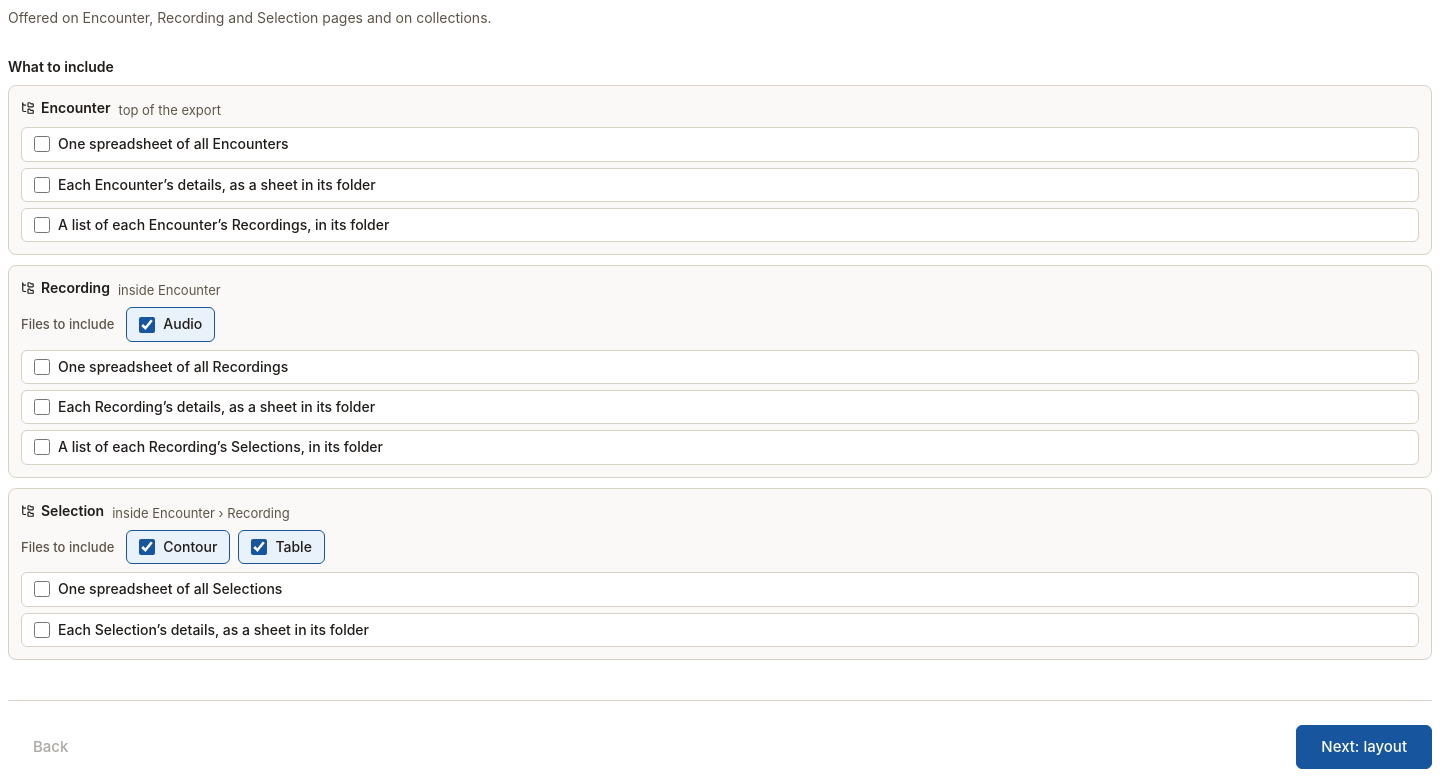
Test: choosing a layout › shows each one as the folders it makes, in neutral names
(page scrolled)
Click the button "Next: layout".
click(1364, 747)  # box [1296,725,1432,769]
(page scrolled)
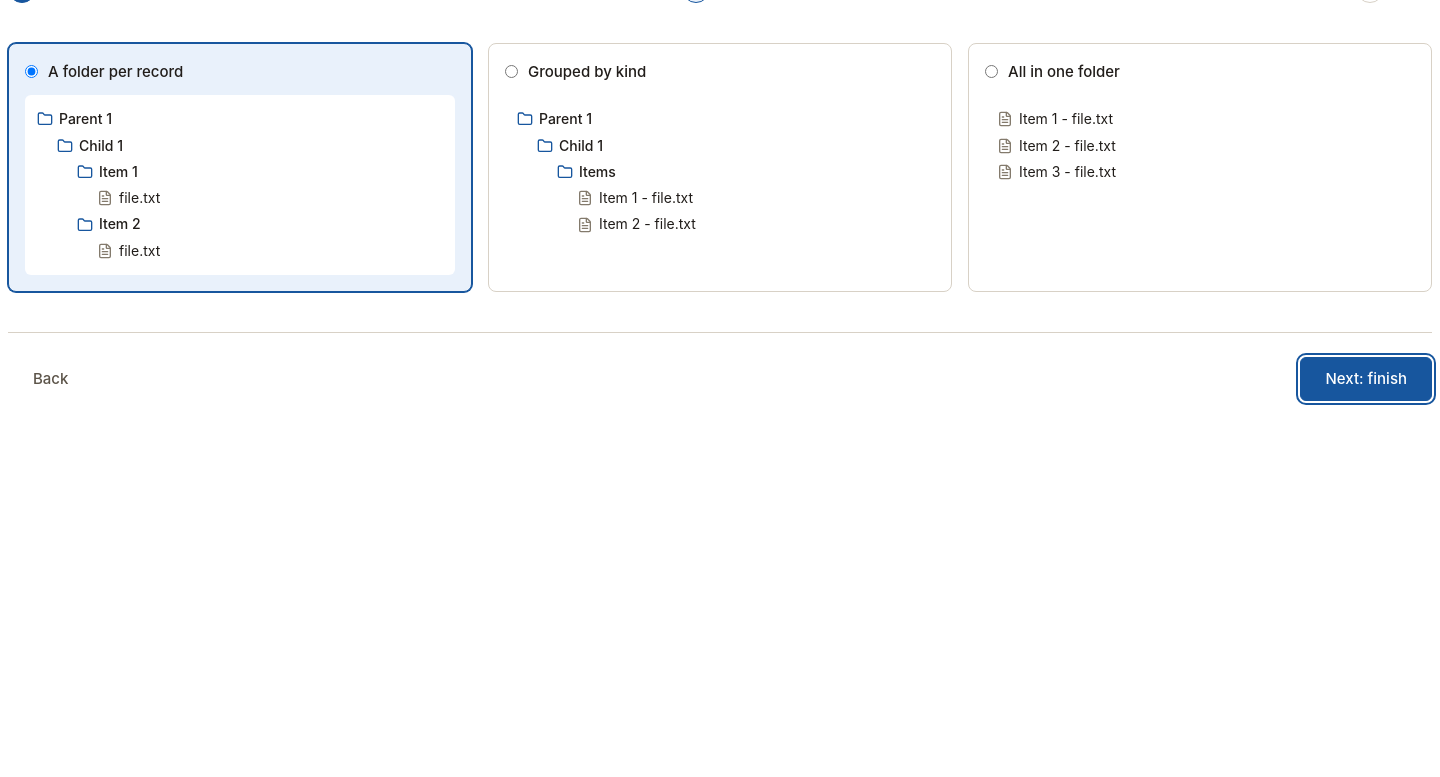
Expected: the text "Child 1" below "A folder per record" is shown, [79,136,123,154]
Expected: the text "file.txt" is shown 2 times, [119,188,160,208]; [119,241,160,261]
Expected: the text "Items" is shown, [579,162,616,182]
